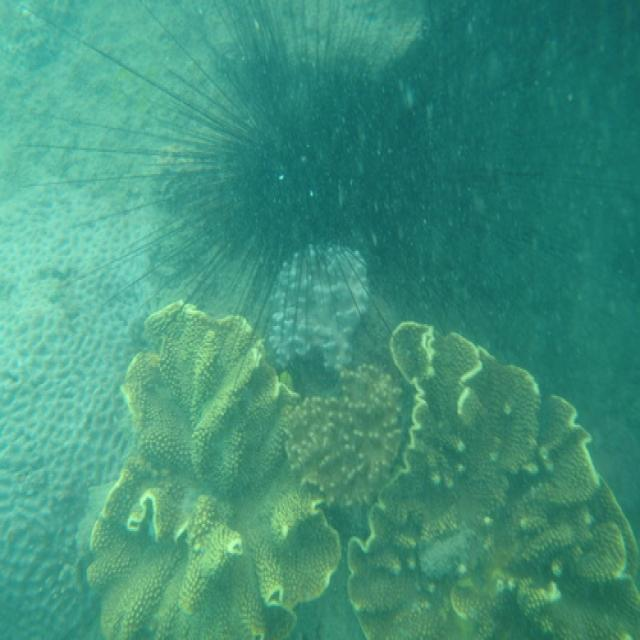Urchin: (71, 14, 624, 329)
